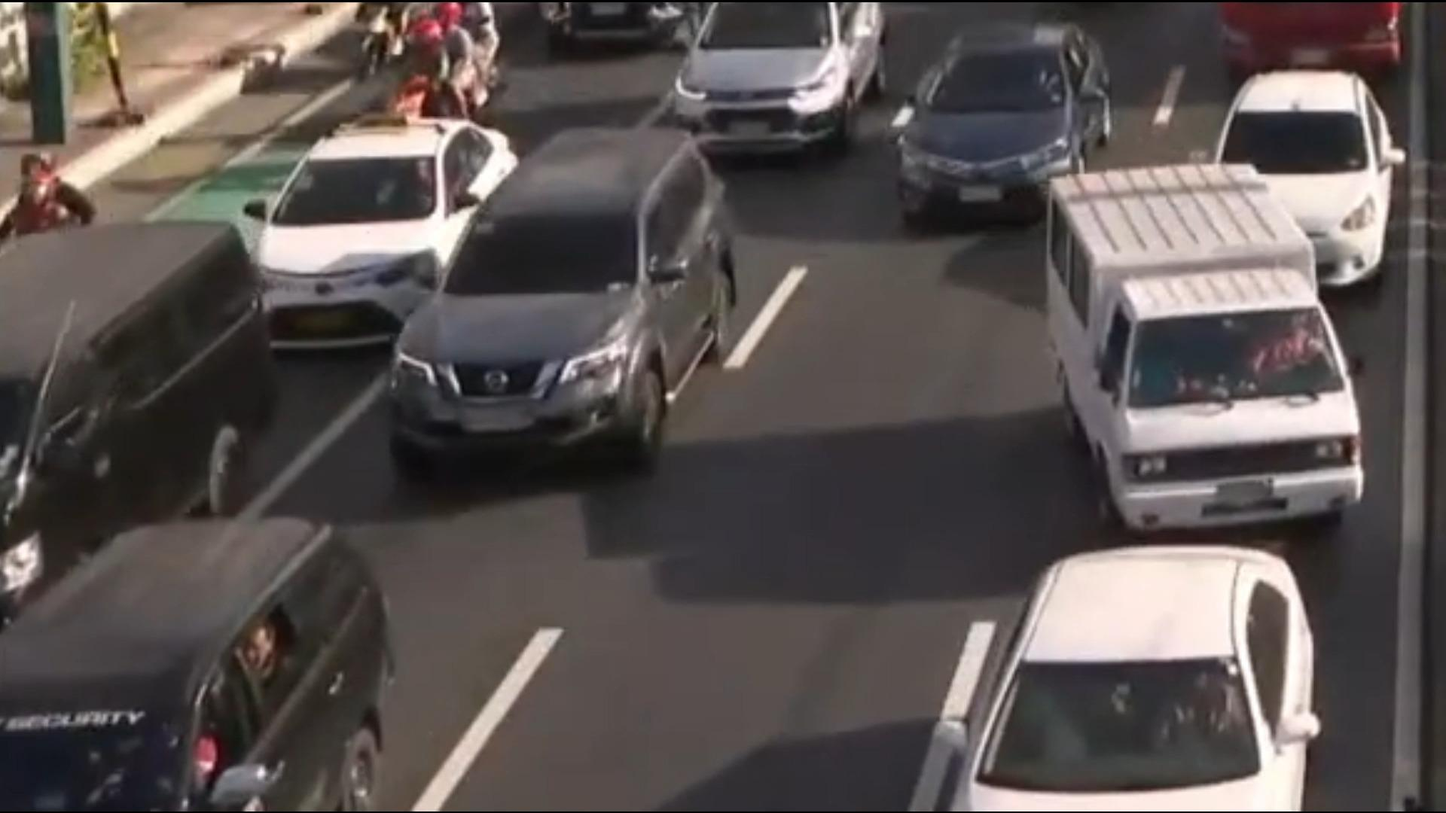Motorcycle: (391, 8, 488, 134), (0, 143, 87, 241), (352, 0, 435, 89)
Multicab: (1010, 158, 1384, 532)
SUV: (372, 104, 787, 497), (0, 505, 415, 813), (658, 0, 897, 167)
Sedan: (899, 540, 1365, 813), (233, 96, 528, 389), (867, 6, 1124, 258), (1191, 55, 1422, 279)
Van: (0, 215, 285, 642)
